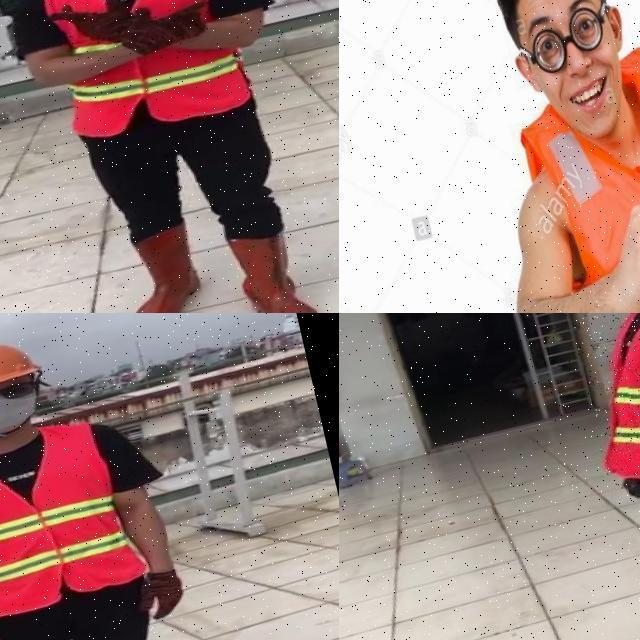boots: (224, 219, 320, 313), (115, 221, 209, 313)
helmet: (0, 331, 41, 402)
vest: (476, 29, 640, 313), (26, 0, 255, 147), (0, 417, 151, 625), (568, 313, 640, 492)
